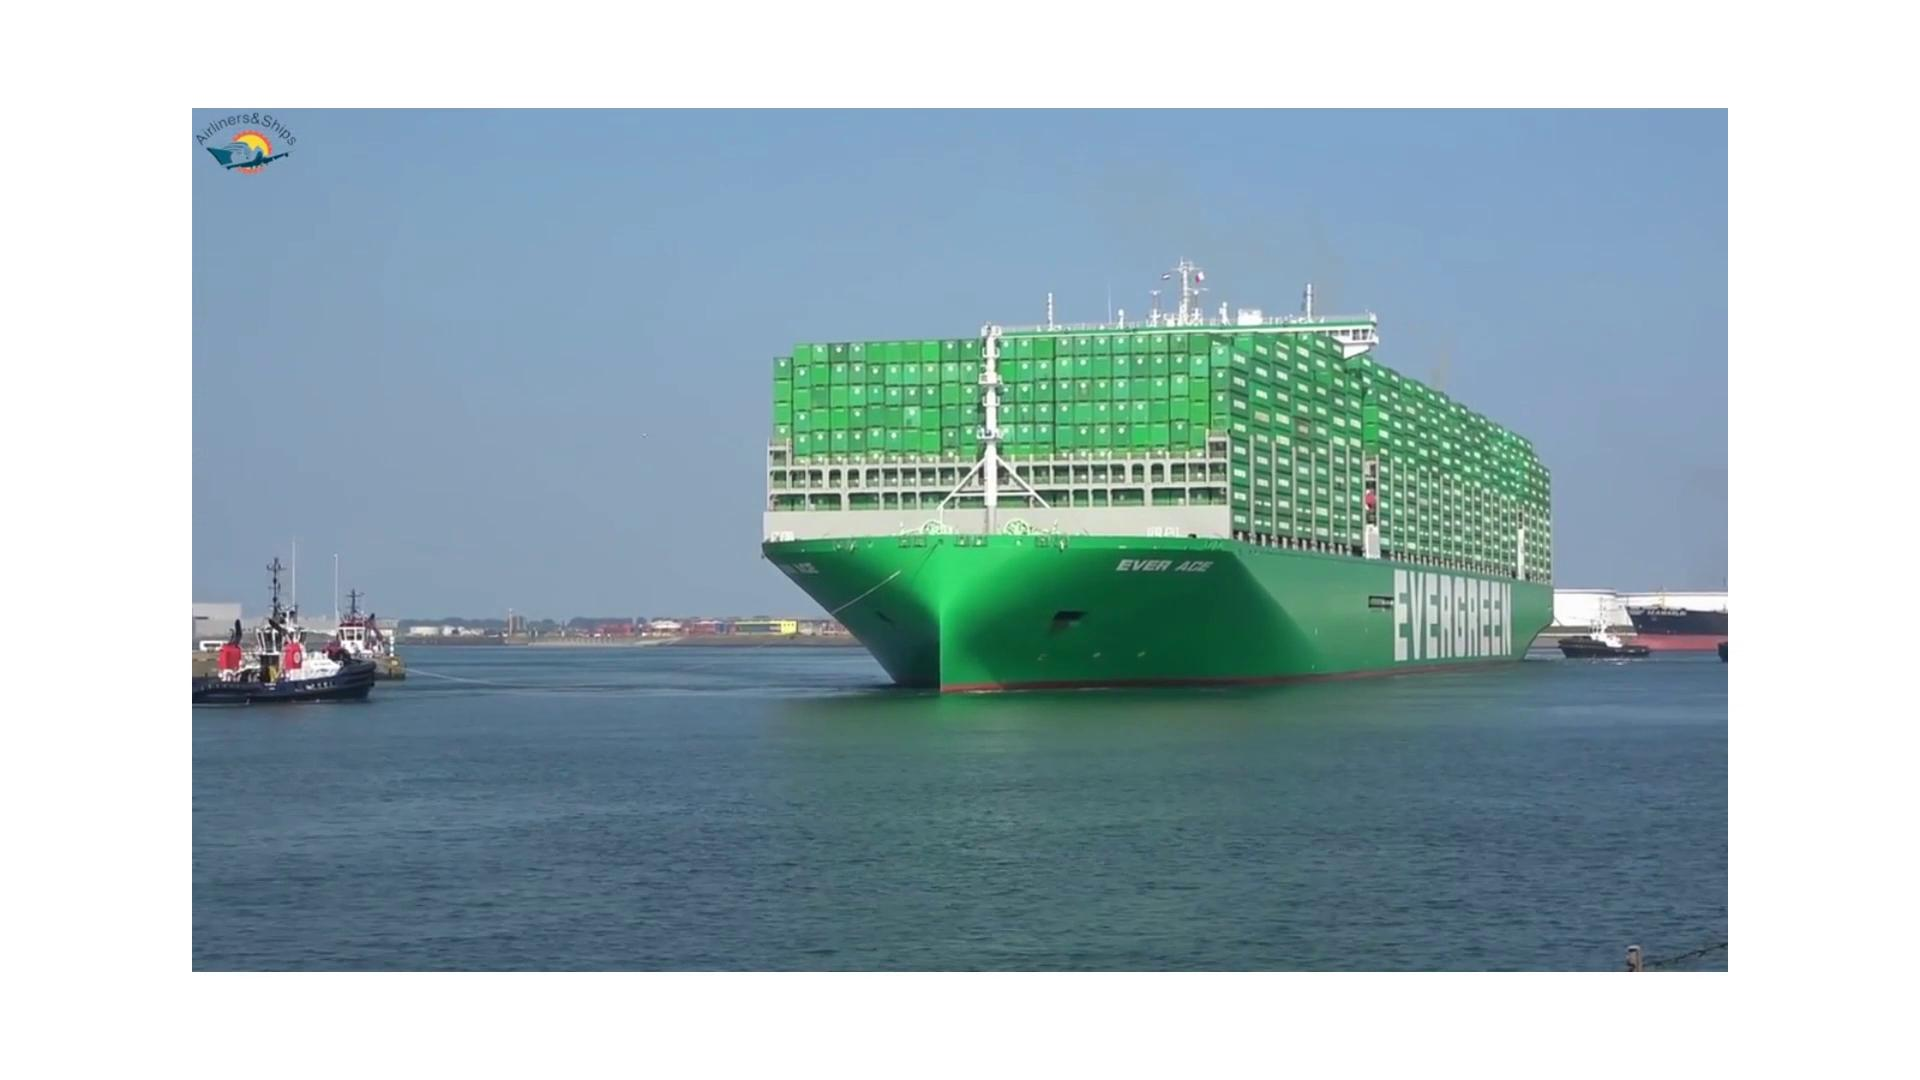OCR: (1370, 539, 1524, 680), (1098, 527, 1224, 582)
